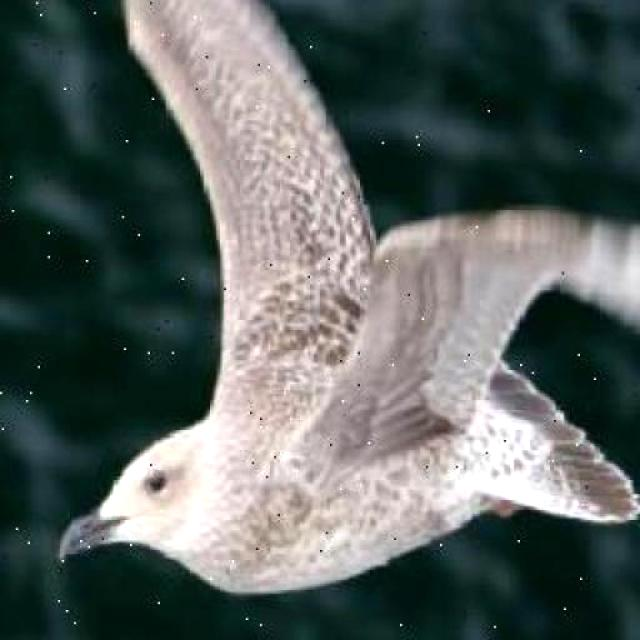airplane: (58, 0, 640, 618)
